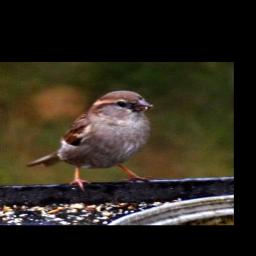Sparrow: (26, 89, 157, 193)
